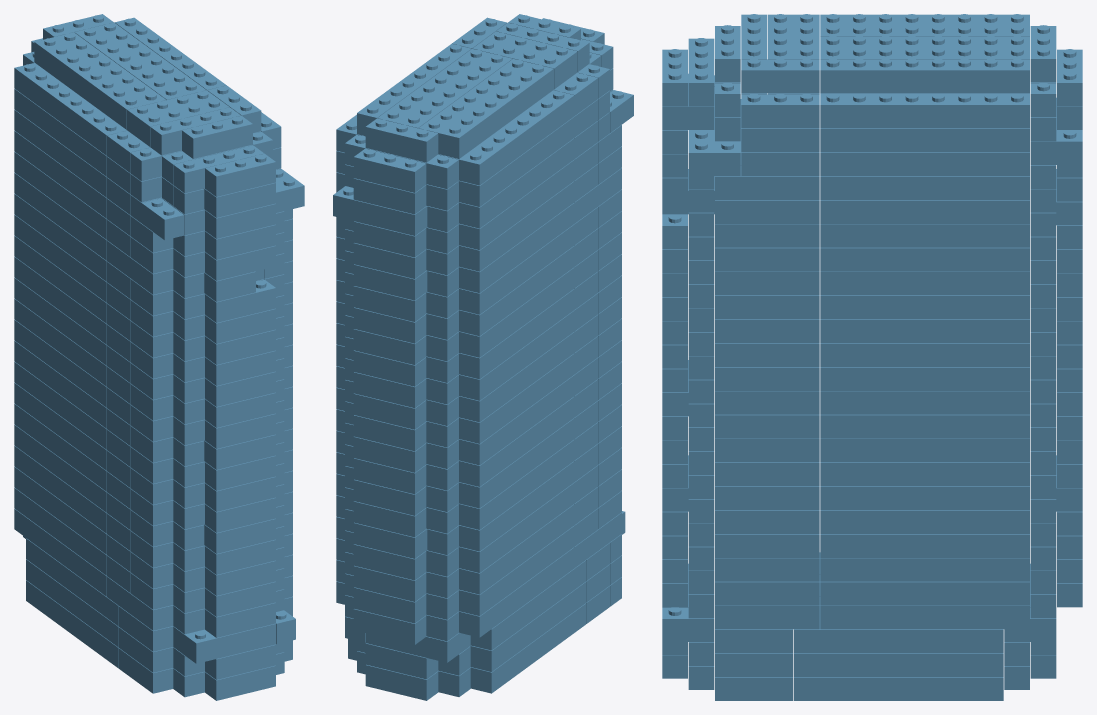
File: 061_bookshelf_L1.glb
3 renders of one model, left to right at view 1: azimuth 30°, elevation 25°; view 2: azimuth 150°, elevation 25°; view 3: azimuth 270°, elevation 25°, orthographic. The views are drawn at different scales.
Bounding box in the file's own units: 6.98 × 26.13 × 15.98.
